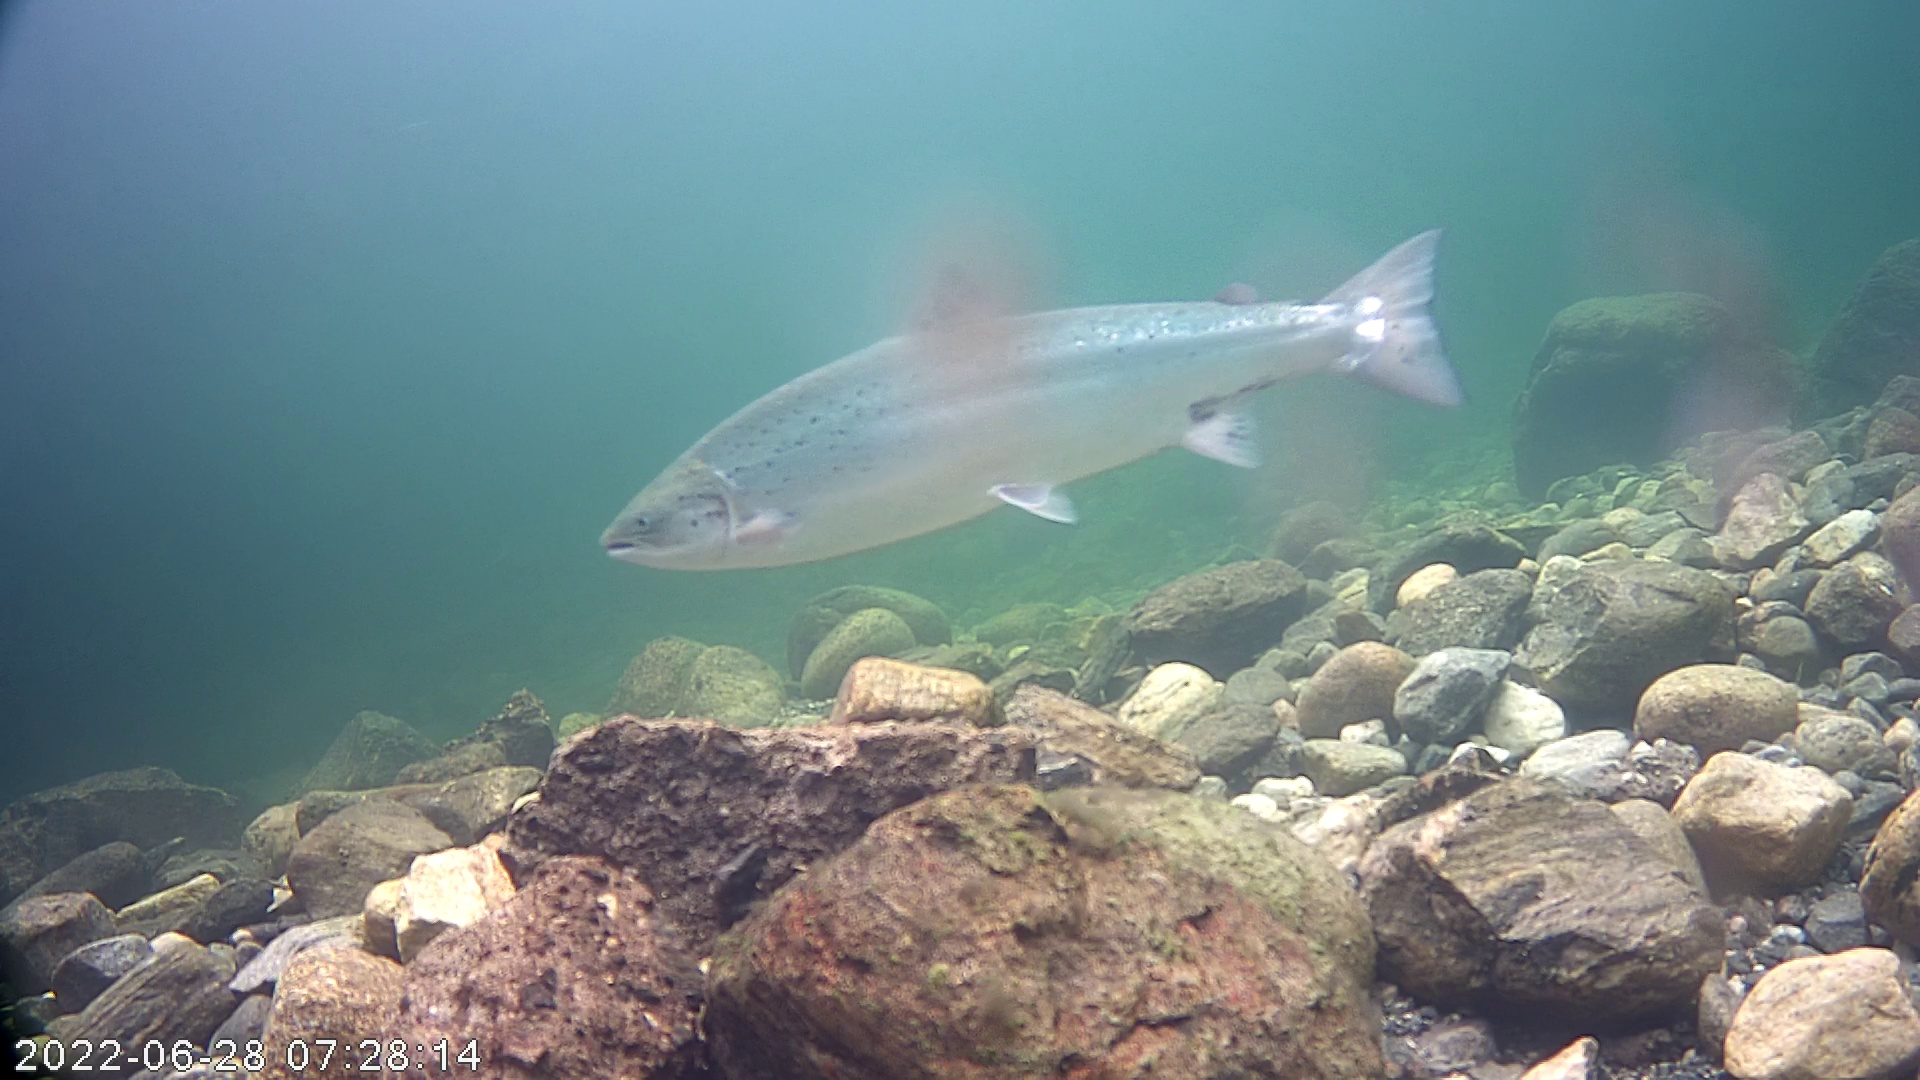salmon: (589, 149, 1497, 612)
